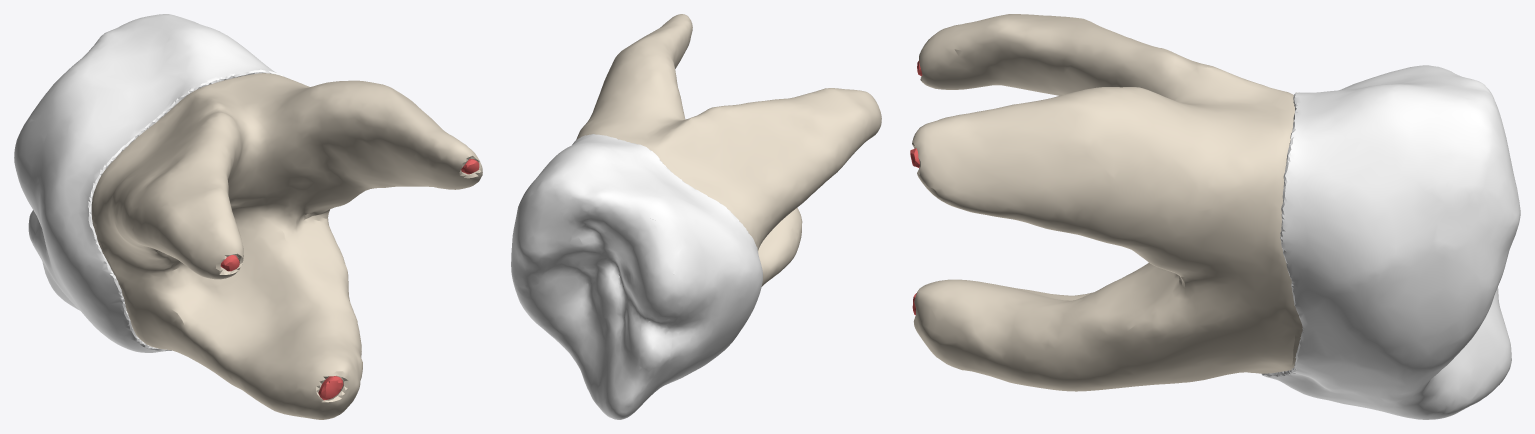
The model's file is 乳牙上颌第一磨牙.fbx.
The picture shows the model from 3 angles, left to right: view 1: azimuth 30°, elevation 25°; view 2: azimuth 150°, elevation 25°; view 3: azimuth 270°, elevation 25°; orthographic projection. The views are drawn at different scales.
Parts seen in each view (by area): view 1: texture_B, texture_W, texture_S; view 2: texture_W, texture_B; view 3: texture_B, texture_W.
Part boxes in pixels (x1,y1,x2,y2): texture_B: (91, 73, 482, 419); texture_W: (14, 14, 284, 352); texture_S: (220, 158, 479, 400); texture_W: (511, 134, 762, 419); texture_B: (576, 14, 881, 286); texture_B: (912, 14, 1302, 391); texture_W: (1261, 65, 1520, 419).
Bounding box in the file's own units: 14.31 × 14.58 × 21.26.
Materials: 3 (3 with a texture image).
